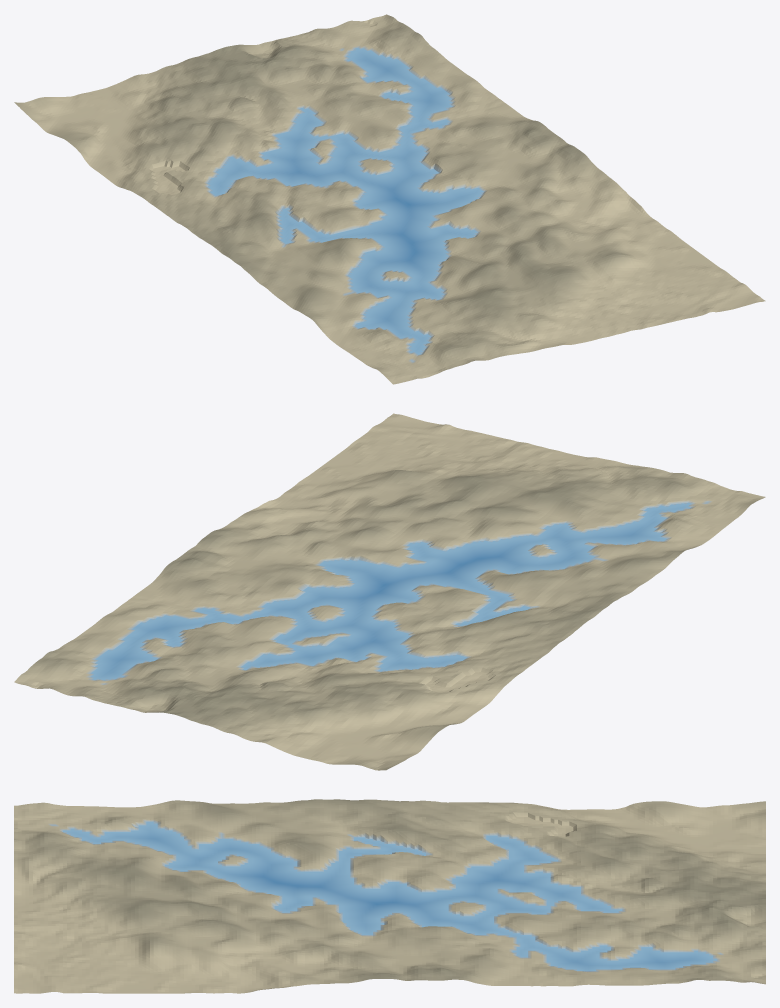
The model's file is lake_hopatcong_nj.glb.
3 renders of one model, top to bottom at view 1: azimuth 30°, elevation 25°; view 2: azimuth 150°, elevation 25°; view 3: azimuth 270°, elevation 25°, orthographic.
Parts seen in each view (by area): view 1: terrain, water; view 2: terrain, water; view 3: terrain, water.
Boxes of the visible parts, left/top/right/bottom form: terrain: left=14, top=14, right=765, bottom=384; water: left=207, top=48, right=483, bottom=354; terrain: left=14, top=413, right=765, bottom=770; water: left=91, top=503, right=690, bottom=680; terrain: left=14, top=799, right=765, bottom=993; water: left=63, top=821, right=716, bottom=970.
Bounding box in the file's own units: 5695 × 254 × 10043.
